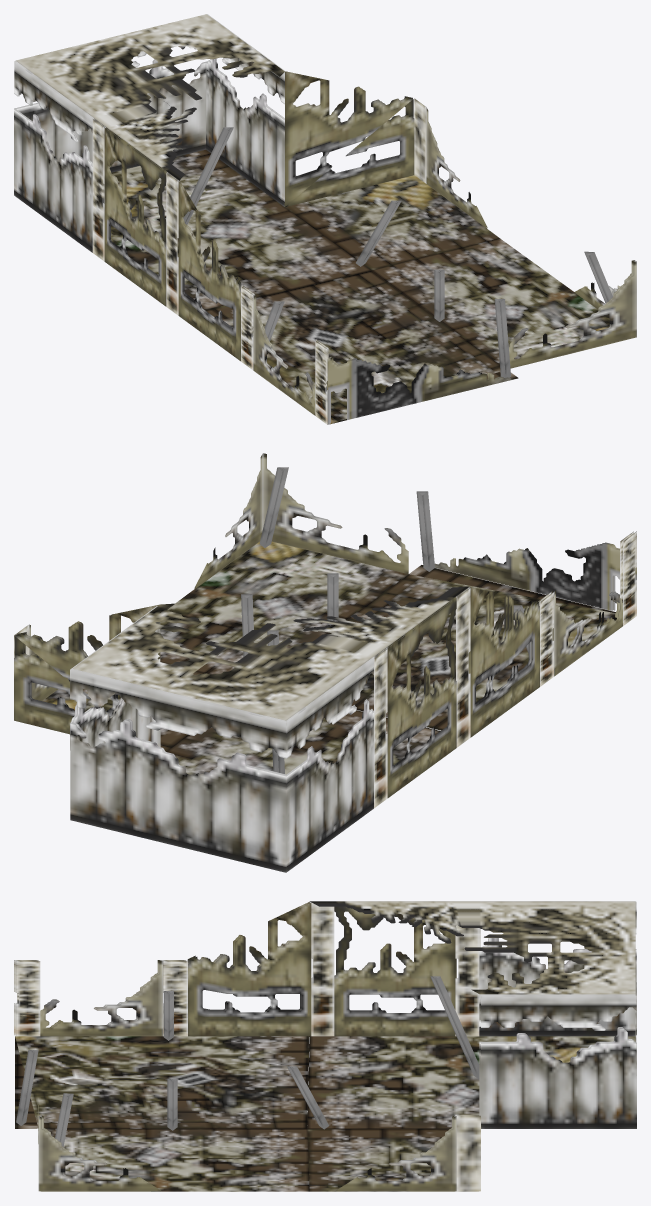
File: d_hq_dam.glb
3 views of the same model, one above another, from view 1: azimuth 30°, elevation 25°; view 2: azimuth 150°, elevation 25°; view 3: azimuth 270°, elevation 25° (orthographic). The views are drawn at different scales.
Visible parts, largest first — view 1: SensorControldamaged; view 2: SensorControldamaged; view 3: SensorControldamaged.
Boxes of the visible parts, <box> form: SensorControldamaged: <box>14,14,636,424</box>; SensorControldamaged: <box>14,453,636,872</box>; SensorControldamaged: <box>14,901,636,1191</box>.
Size of the model in its own units: 18.81 by 7.58 by 31.75.
Materials: 2 (2 with a texture image).
